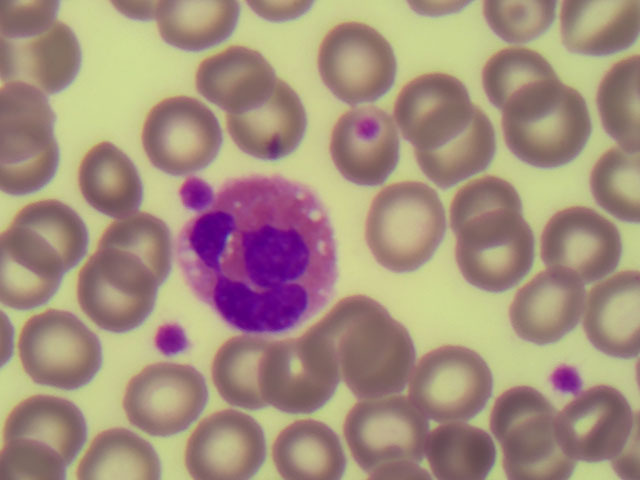Platelets: (155, 315, 196, 355), (551, 359, 584, 396)
RBC: (135, 93, 219, 175), (70, 133, 154, 215), (16, 190, 100, 272), (74, 258, 158, 340), (99, 205, 183, 287), (20, 313, 104, 395), (7, 378, 91, 460), (80, 398, 164, 480), (110, 356, 194, 438), (199, 333, 283, 415), (252, 335, 336, 417), (320, 286, 404, 368), (338, 322, 422, 404), (406, 342, 490, 424), (346, 391, 430, 473), (269, 398, 353, 480), (184, 398, 268, 480), (363, 188, 447, 270), (324, 107, 408, 189), (235, 89, 319, 171), (201, 41, 285, 123), (316, 26, 400, 108), (387, 60, 471, 142), (414, 103, 498, 185), (443, 160, 527, 242), (455, 213, 539, 295), (537, 204, 621, 286), (512, 264, 596, 346), (506, 88, 590, 170), (475, 41, 559, 123), (552, 392, 636, 474), (1, 7, 84, 89), (514, 413, 584, 480), (483, 379, 553, 446), (430, 413, 500, 480), (149, 1, 236, 43), (553, 1, 640, 43)
WBC: (182, 176, 337, 330)
